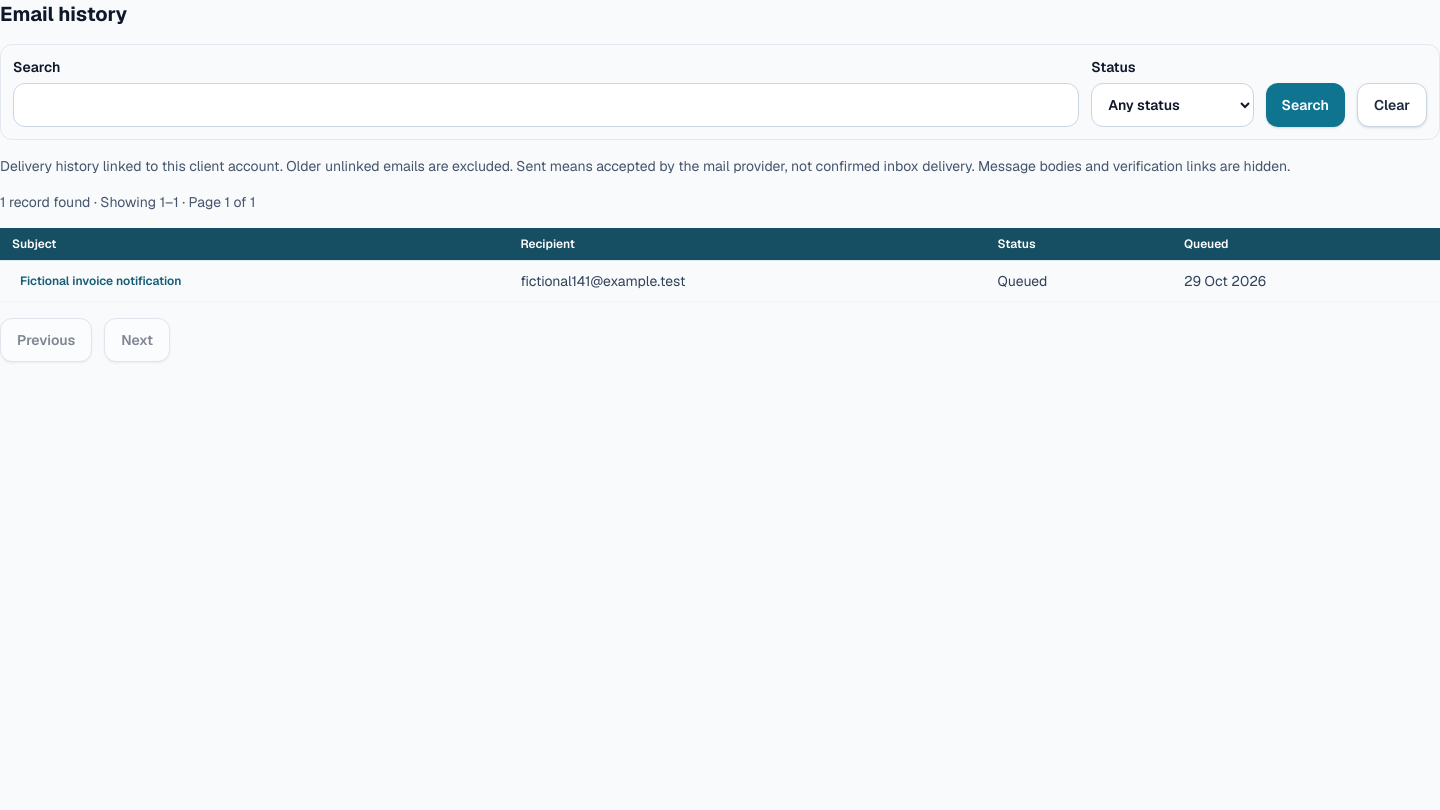
Scenario: client billing and communication tabs › shows safe email metadata without sending or retrieving message bodies
Click the button "Fictional invoice notification" at (101, 281), box [12, 267, 189, 295]
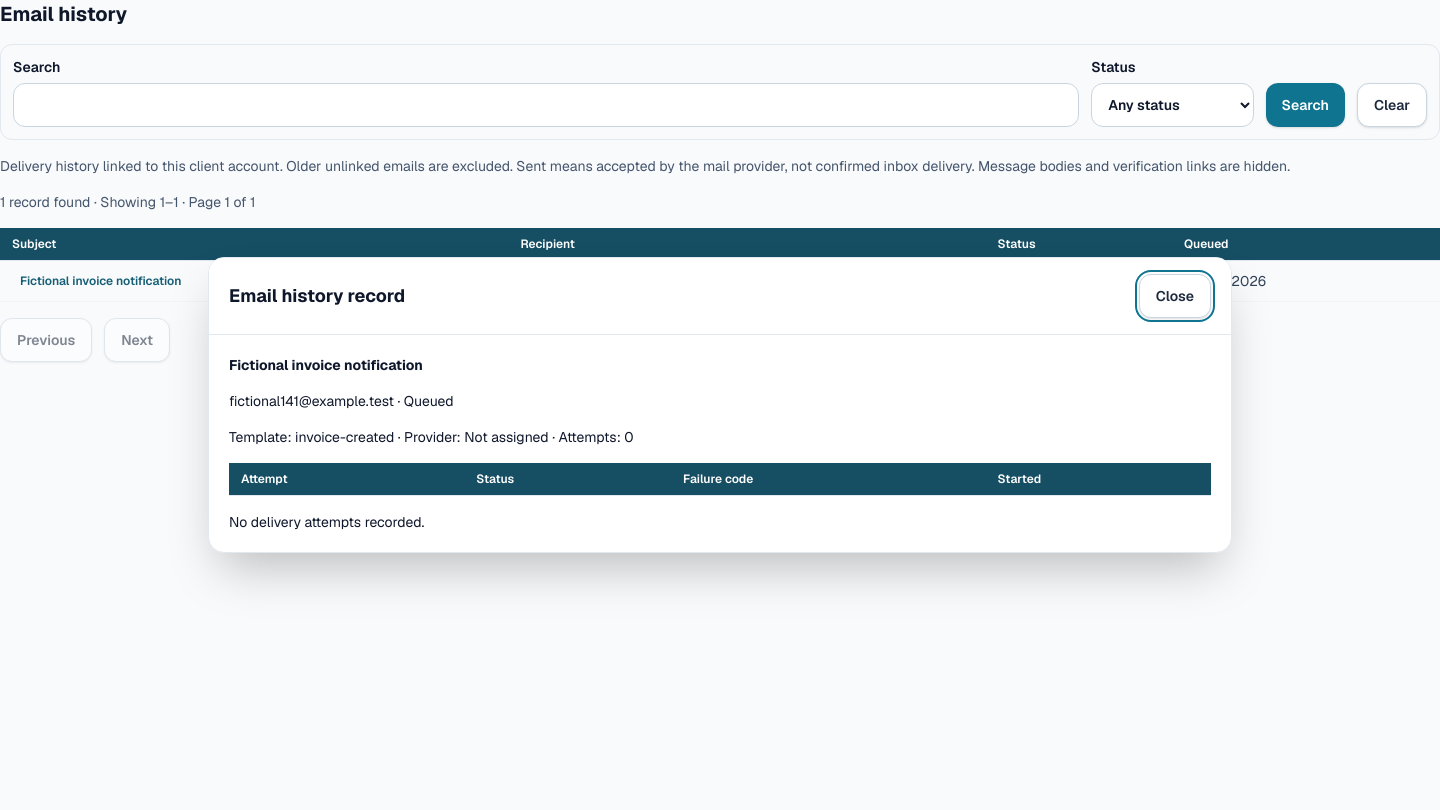
Result: the text "No delivery attempts recorded." is shown at [229, 513, 424, 531]
